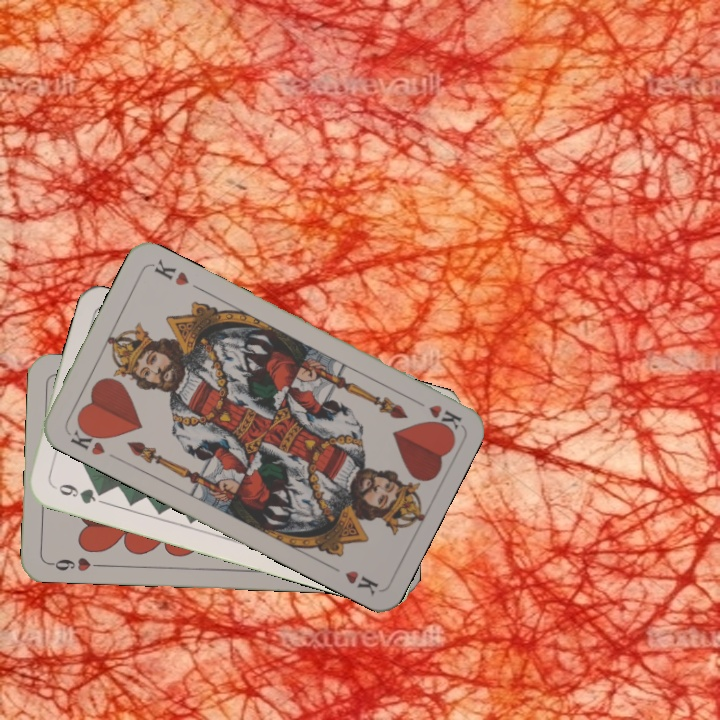G9: (49, 480, 108, 507)
H9: (45, 553, 104, 574)
HK: (407, 394, 464, 433), (64, 421, 108, 458)
